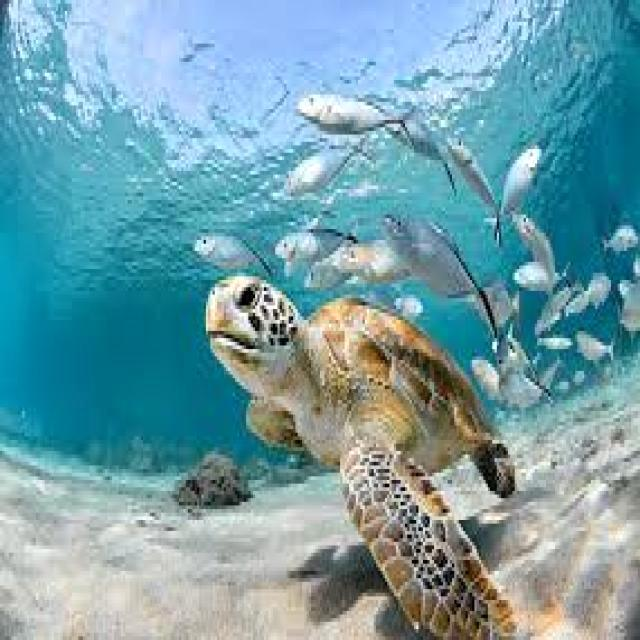Sea turtle: (201, 270, 533, 640)
